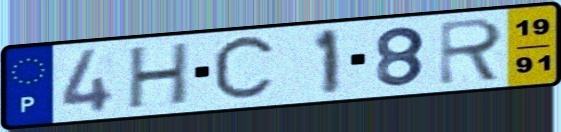1: (308, 26, 345, 98)
4: (58, 46, 117, 115)
8: (372, 24, 427, 89)
C: (209, 31, 280, 106)
H: (124, 39, 193, 112)
R: (436, 15, 508, 88)
